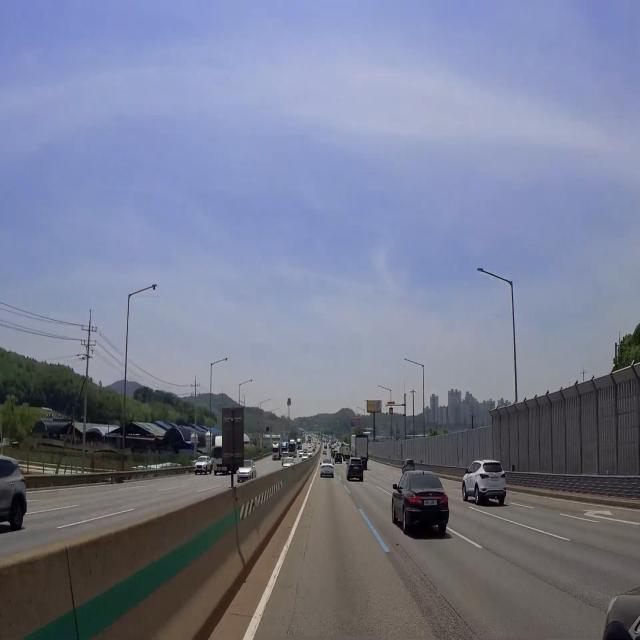car: (423, 497, 439, 510), (488, 473, 502, 486), (323, 469, 330, 475), (352, 466, 360, 470)
